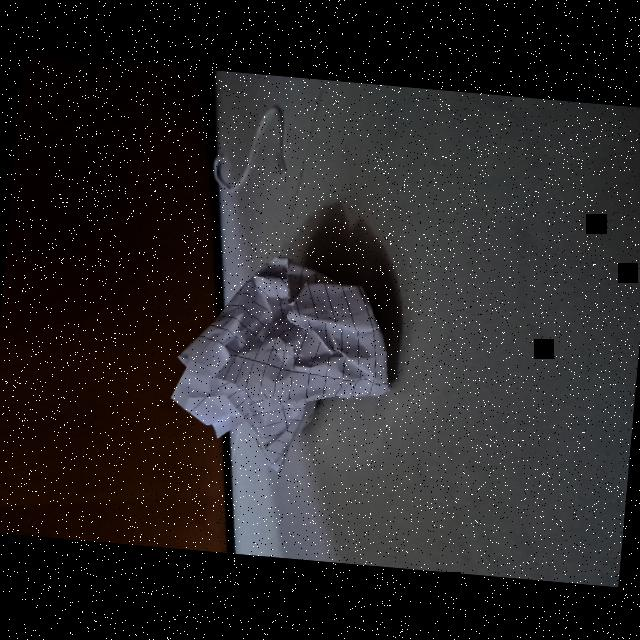scrap_paper: (166, 243, 403, 471)
